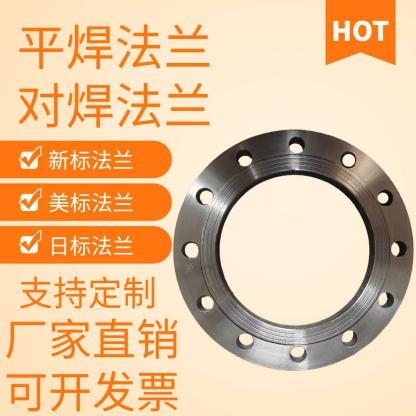FOD: (170, 126, 416, 373)
